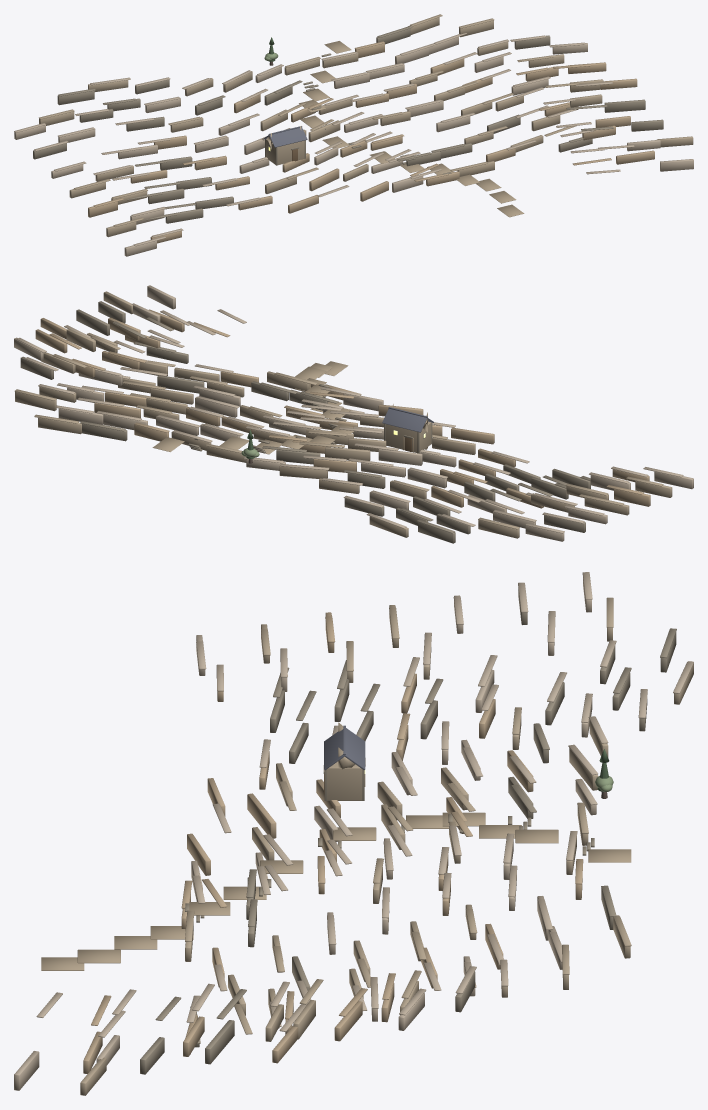
3 views of the same model, one above another, from view 1: azimuth 30°, elevation 25°; view 2: azimuth 150°, elevation 25°; view 3: azimuth 270°, elevation 25° (orthographic). The views are drawn at different scales.
Parts seen in each view (by area): view 1: barnWalls, roof-1, w-4_440; view 2: barnWalls, roof1, w-4_-162, w-6_237, w-6_-183, w-3_-108, w-7_-177, w-1_-109, w-2_260, w-1_194, w-1_260, w-2_-62 (+21 smaller); view 3: barnWalls.
Boxes of the visible parts, left/top/right/bottom form: barnWalls: left=265, top=138, right=304, bottom=164; roof-1: left=269, top=127, right=307, bottom=147; w-4_440: left=604, top=99, right=645, bottom=112; barnWalls: left=385, top=421, right=431, bottom=452; roof1: left=382, top=408, right=427, bottom=432; w-4_-162: left=378, top=449, right=422, bottom=465; w-6_237: left=157, top=375, right=204, bottom=393; w-6_-183: left=432, top=437, right=475, bottom=454; w-3_-108: left=325, top=446, right=370, bottom=460; w-7_-177: left=451, top=427, right=494, bottom=444; w-1_-109: left=279, top=465, right=327, bottom=478; w-2_260: left=58, top=408, right=103, bottom=424; w-1_194: left=82, top=424, right=127, bottom=441; w-1_260: left=38, top=417, right=81, bottom=434; w-2_-62: left=276, top=449, right=320, bottom=464; barnWalls: left=327, top=761, right=362, bottom=800.
Bounding box in the file's own units: 97.99 × 14.3 × 61.53.
